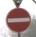No entry: (5, 5, 31, 31)
